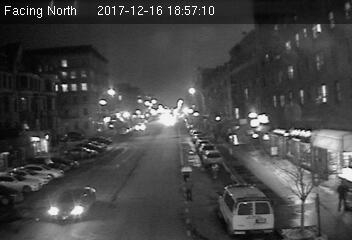car: (46, 186, 99, 221), (203, 150, 222, 167)
pedestrian: (181, 175, 197, 205)
police: (216, 183, 275, 237)
